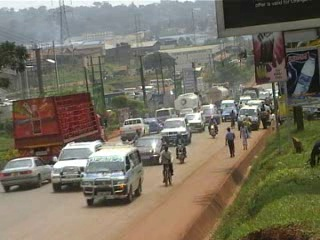Car: (49, 137, 108, 192), (1, 152, 52, 191), (132, 132, 167, 168), (158, 116, 193, 145), (140, 116, 165, 133), (201, 106, 224, 124), (220, 104, 240, 121), (177, 106, 197, 118)
Motorcycle: (173, 131, 190, 165), (123, 127, 149, 147), (205, 115, 220, 139)
